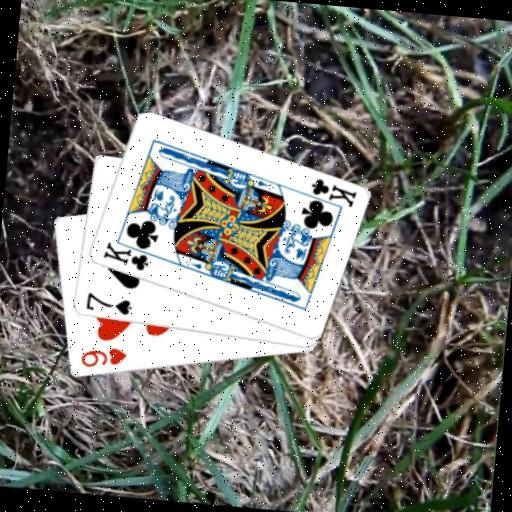7S: (82, 290, 134, 318)
9H: (76, 342, 129, 373)
KC: (298, 175, 358, 213), (99, 237, 159, 274)
